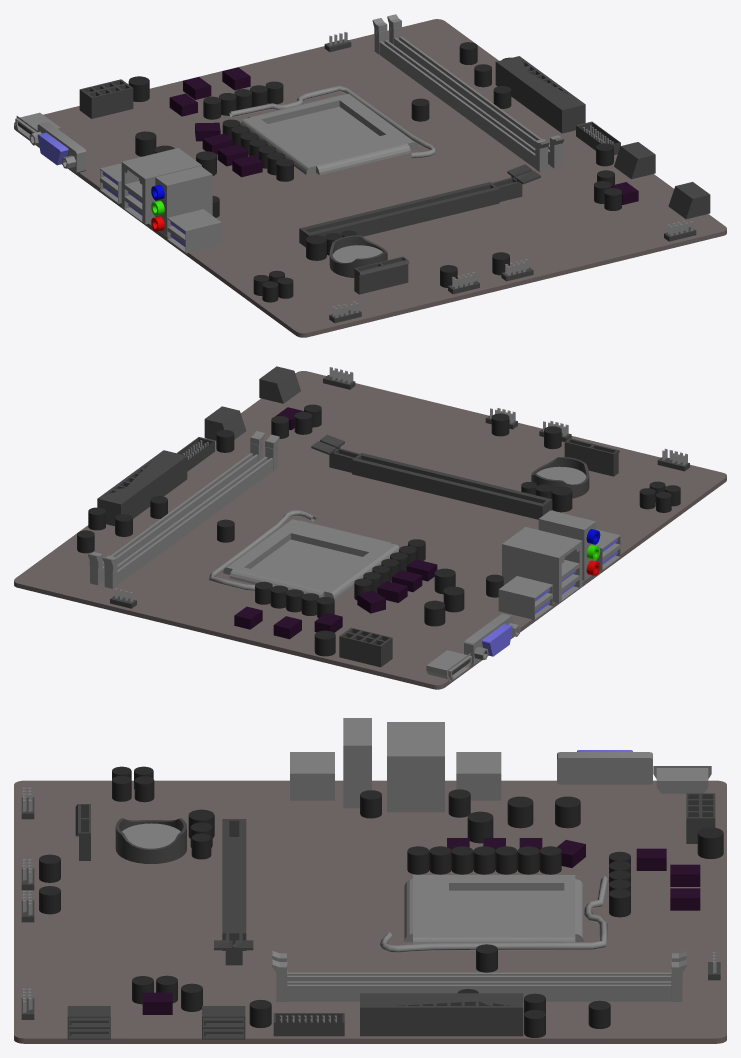
File: LGA 1200 H510m.fbx
The picture shows the model from 3 angles, top to bottom: view 1: azimuth 30°, elevation 25°; view 2: azimuth 150°, elevation 25°; view 3: azimuth 270°, elevation 25°; orthographic projection. The views are drawn at different scales.
Parts seen in each view (by area): view 1: Cube, Cube.031, Cube.001, Cube.018, Cylinder.024, Cube.019, Cube.008, Cube.007, Cube.022, Cube.011, Cylinder.016, Cylinder.015 (+12 smaller); view 2: Cube, Cube.031, Cube.001, Cylinder.024, Cube.018, Cube.008, Cube.019, Cube.022, Cube.009, Cylinder.016, Cube.021, Cube.012 (+12 smaller); view 3: Cube, Cube.031, Cube.001, Cylinder.024, Cube.019, Cube.008, Cylinder.015, Cube.018, Cube.012, Cylinder.001, Cube.007, NurbsPath (+16 smaller).
Part boxes in pixels (x1,y1,x2,y2): Cube: (14,19,726,337); Cube.031: (240,94,417,174); Cube.001: (372,14,564,172); Cube.018: (299,164,540,247); Cylinder.024: (128,42,621,217); Cube.019: (495,56,585,133); Cube.008: (121,148,201,224); Cube.007: (155,166,212,236); Cube.022: (614,142,710,219); Cube.011: (167,209,221,253); Cylinder.016: (203,81,283,119); Cylinder.015: (222,119,293,181); Cube: (14,371,726,689); Cube.031: (223,519,399,599); Cube.001: (88,431,279,588); Cylinder.024: (77,404,503,656); Cube.018: (311,434,552,519); Cube.008: (502,527,582,603); Cube.019: (97,450,187,526); Cube.022: (204,366,300,440); Cube.009: (498,576,552,620); Cylinder.016: (255,581,334,618); Cube.021: (339,627,392,667); Cube.012: (464,613,520,664); Cube: (14,780,726,1043); Cube.031: (404,875,583,944); Cube.001: (272,950,686,1001); Cylinder.024: (132,789,723,1037); Cube.019: (360,993,523,1036); Cube.008: (387,722,444,812); Cylinder.015: (407,846,561,874); Cube.018: (214,819,253,965); Cube.012: (557,750,652,784); Cylinder.001: (115,818,186,863); Cube.007: (343,718,371,808); NurbsPath: (379,876,608,952).
Bounding box in the file's own units: 42.63 × 5.08 × 48.24.
